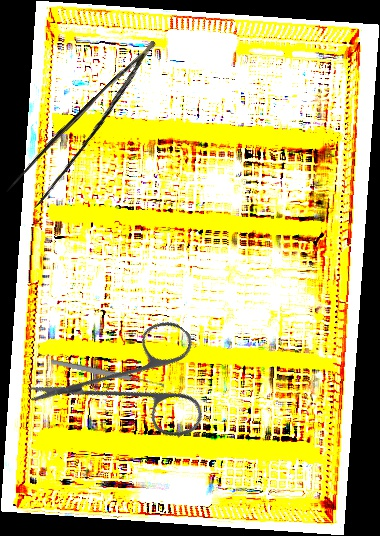Iris Scissors: (23, 276, 240, 492)
Surgical Spoon: (50, 358, 165, 389)
Tissue Forceps: (1, 40, 180, 215)
